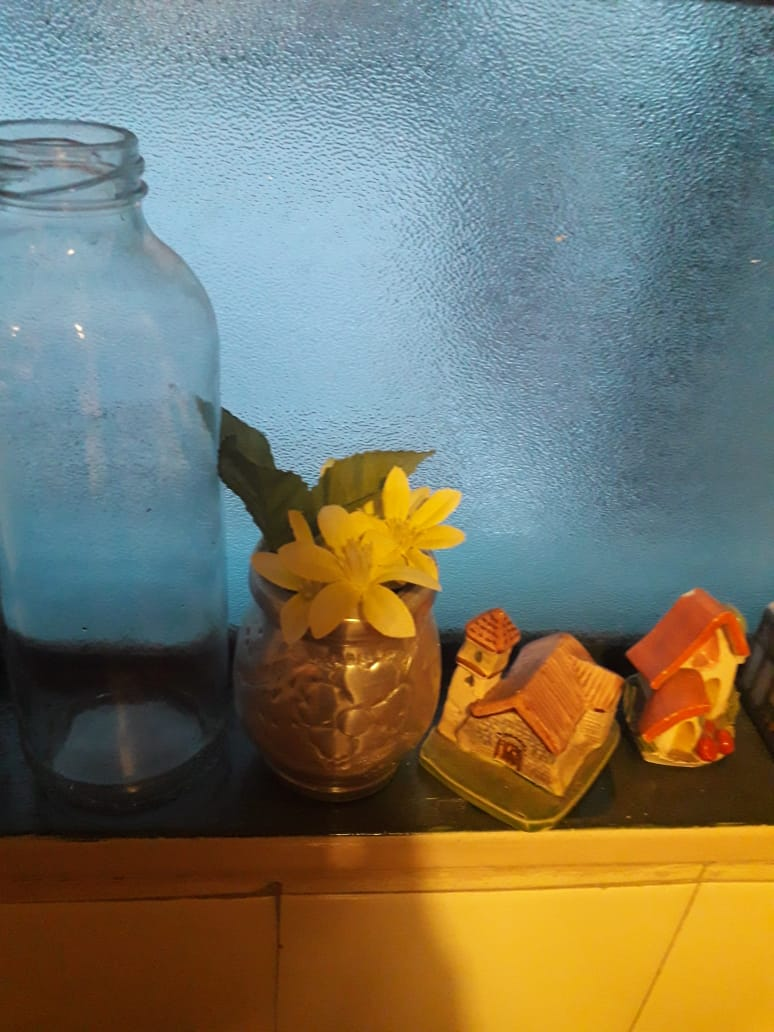mate: (233, 528, 441, 795)
metal: (231, 526, 439, 793)
